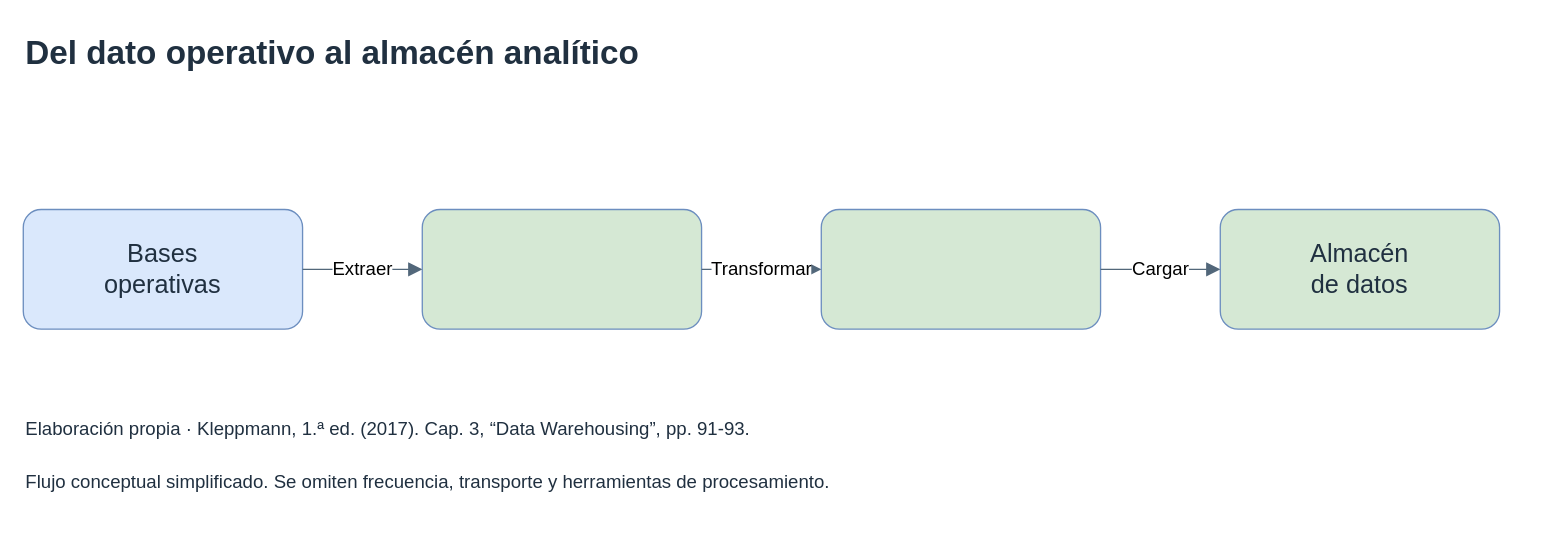
Some shapes in this 1563 by 551 pixel diagram are drawn without their labels. The shapes that lost their labels are listed below. From the top down, each one's centre as x and y in pixels, then its label:
At (561,268): "Extracción".
At (960,268): "Transformación y limpieza".
